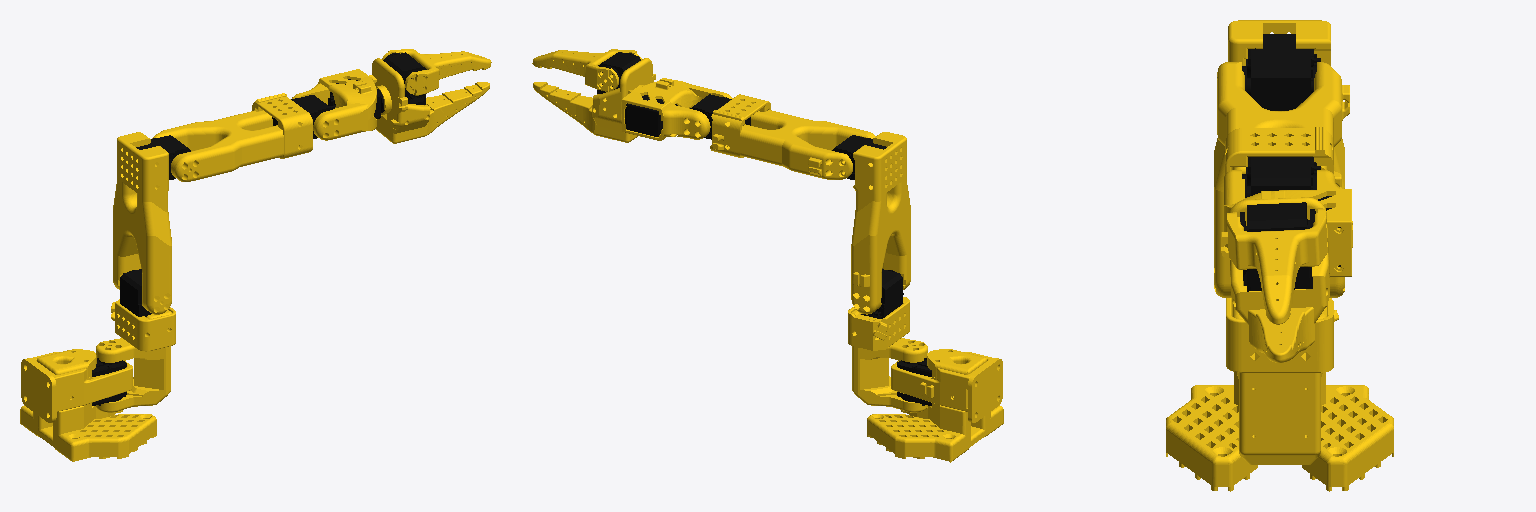
URDF robot description (so101_follower):
<?xml version="1.0" encoding="utf-8"?>
<!-- SO101 Follower Arm - based on so101_new_calib.urdf -->
<robot name="so101_follower">

  <!-- Materials -->
  <material name="3d_printed">
    <color rgba="1.0 0.82 0.12 1.0"/>
  </material>
  <material name="sts3215">
    <color rgba="0.1 0.1 0.1 1.0"/>
  </material>

  <!-- Link base -->
  <link name="base_link">
    <inertial>
      <origin xyz="0.0137179 -5.19711e-05 0.0334843" rpy="0 0 0"/>
      <mass value="0.147"/>
      <inertia ixx="0.000114686" ixy="-4.59787e-07" ixz="4.97151e-06" iyy="0.000136117" iyz="9.75275e-08" izz="0.000130364"/>
    </inertial>
    <!-- Part base_motor_holder_so101_v1 -->
    <visual>
      <origin xyz="-0.00636471 -9.94414e-05 -0.0024" rpy="1.5708 -1.67685e-15 1.5708"/>
      <geometry>
        <mesh filename="package://so101_description/meshes/base_motor_holder_so101_v1.stl"/>
      </geometry>
      <material name="3d_printed"/>
    </visual>
    <collision>
      <origin xyz="-0.00636471 -9.94414e-05 -0.0024" rpy="1.5708 -1.67685e-15 1.5708"/>
      <geometry>
        <mesh filename="package://so101_description/meshes/base_motor_holder_so101_v1.stl"/>
      </geometry>
    </collision>
    <!-- Part base_so101_v2 -->
    <visual>
      <origin xyz="-0.00636471 -8.97657e-09 -0.0024" rpy="1.5708 -2.78073e-29 1.5708"/>
      <geometry>
        <mesh filename="package://so101_description/meshes/base_so101_v2.stl"/>
      </geometry>
      <material name="3d_printed"/>
    </visual>
    <collision>
      <origin xyz="-0.00636471 -8.97657e-09 -0.0024" rpy="1.5708 -2.78073e-29 1.5708"/>
      <geometry>
        <mesh filename="package://so101_description/meshes/base_so101_v2.stl"/>
      </geometry>
    </collision>
    <!-- Part sts3215_03a_v1 -->
    <visual>
      <origin xyz="0.0263353 -8.97657e-09 0.0437" rpy="-8.21148e-16 7.84513e-18 1.249e-15"/>
      <geometry>
        <mesh filename="package://so101_description/meshes/sts3215_03a_v1.stl"/>
      </geometry>
      <material name="sts3215"/>
    </visual>
    <collision>
      <origin xyz="0.0263353 -8.97657e-09 0.0437" rpy="-8.21148e-16 7.84513e-18 1.249e-15"/>
      <geometry>
        <mesh filename="package://so101_description/meshes/sts3215_03a_v1.stl"/>
      </geometry>
    </collision>
    <!-- Part waveshare_mounting_plate_so101_v2 -->
    <visual>
      <origin xyz="-0.0309827 -0.000199441 0.0474" rpy="1.5708 -1.35493e-14 1.5708"/>
      <geometry>
        <mesh filename="package://so101_description/meshes/waveshare_mounting_plate_so101_v2.stl"/>
      </geometry>
      <material name="3d_printed"/>
    </visual>
    <collision>
      <origin xyz="-0.0309827 -0.000199441 0.0474" rpy="1.5708 -1.35493e-14 1.5708"/>
      <geometry>
        <mesh filename="package://so101_description/meshes/waveshare_mounting_plate_so101_v2.stl"/>
      </geometry>
    </collision>
  </link>

  <!-- Link shoulder -->
  <link name="shoulder_link">
    <inertial>
      <origin xyz="-0.0307604 -1.66727e-05 -0.0252713" rpy="0 0 0"/>
      <mass value="0.100006"/>
      <inertia ixx="8.3759e-05" ixy="7.55525e-08" ixz="-1.16342e-06" iyy="8.10403e-05" iyz="1.54663e-07" izz="2.39783e-05"/>
    </inertial>
    <!-- Part sts3215_03a_v1_2 -->
    <visual>
      <origin xyz="-0.0303992 0.000422241 -0.0417" rpy="1.5708 1.5708 0"/>
      <geometry>
        <mesh filename="package://so101_description/meshes/sts3215_03a_v1.stl"/>
      </geometry>
      <material name="sts3215"/>
    </visual>
    <collision>
      <origin xyz="-0.0303992 0.000422241 -0.0417" rpy="1.5708 1.5708 0"/>
      <geometry>
        <mesh filename="package://so101_description/meshes/sts3215_03a_v1.stl"/>
      </geometry>
    </collision>
    <!-- Part motor_holder_so101_base_v1 -->
    <visual>
      <origin xyz="-0.0675992 -0.000177759 0.0158499" rpy="1.5708 -1.5708 0"/>
      <geometry>
        <mesh filename="package://so101_description/meshes/motor_holder_so101_base_v1.stl"/>
      </geometry>
      <material name="3d_printed"/>
    </visual>
    <collision>
      <origin xyz="-0.0675992 -0.000177759 0.0158499" rpy="1.5708 -1.5708 0"/>
      <geometry>
        <mesh filename="package://so101_description/meshes/motor_holder_so101_base_v1.stl"/>
      </geometry>
    </collision>
    <!-- Part rotation_pitch_so101_v1 -->
    <visual>
      <origin xyz="0.0122008 2.22413e-05 0.0464" rpy="-1.5708 2.35221e-33 0"/>
      <geometry>
        <mesh filename="package://so101_description/meshes/rotation_pitch_so101_v1.stl"/>
      </geometry>
      <material name="3d_printed"/>
    </visual>
    <collision>
      <origin xyz="0.0122008 2.22413e-05 0.0464" rpy="-1.5708 2.35221e-33 0"/>
      <geometry>
        <mesh filename="package://so101_description/meshes/rotation_pitch_so101_v1.stl"/>
      </geometry>
    </collision>
  </link>

  <!-- Link upper_arm -->
  <link name="upper_arm_link">
    <inertial>
      <origin xyz="-0.0898471 -0.00838224 0.0184089" rpy="0 0 0"/>
      <mass value="0.103"/>
      <inertia ixx="4.08002e-05" ixy="-1.97819e-05" ixz="-4.03016e-08" iyy="0.000147318" iyz="8.97326e-09" izz="0.000142487"/>
    </inertial>
    <!-- Part sts3215_03a_v1_3 -->
    <visual>
      <origin xyz="-0.11257 -0.0155 0.0187" rpy="-3.14159 -5.27356e-16 -1.5708"/>
      <geometry>
        <mesh filename="package://so101_description/meshes/sts3215_03a_v1.stl"/>
      </geometry>
      <material name="sts3215"/>
    </visual>
    <collision>
      <origin xyz="-0.11257 -0.0155 0.0187" rpy="-3.14159 -5.27356e-16 -1.5708"/>
      <geometry>
        <mesh filename="package://so101_description/meshes/sts3215_03a_v1.stl"/>
      </geometry>
    </collision>
    <!-- Part upper_arm_so101_v1 -->
    <visual>
      <origin xyz="-0.065085 0.012 0.0182" rpy="3.14159 -0 -1.30911e-30"/>
      <geometry>
        <mesh filename="package://so101_description/meshes/upper_arm_so101_v1.stl"/>
      </geometry>
      <material name="3d_printed"/>
    </visual>
    <collision>
      <origin xyz="-0.065085 0.012 0.0182" rpy="3.14159 -0 -1.30911e-30"/>
      <geometry>
        <mesh filename="package://so101_description/meshes/upper_arm_so101_v1.stl"/>
      </geometry>
    </collision>
  </link>

  <!-- Link lower_arm -->
  <link name="lower_arm_link">
    <inertial>
      <origin xyz="-0.0980701 0.00324376 0.0182831" rpy="0 0 0"/>
      <mass value="0.104"/>
      <inertia ixx="2.87438e-05" ixy="7.41152e-06" ixz="1.26409e-06" iyy="0.000159844" iyz="-4.90188e-08" izz="0.00014529"/>
    </inertial>
    <!-- Part under_arm_so101_v1 -->
    <visual>
      <origin xyz="-0.0648499 -0.032 0.0182" rpy="3.14159 -0 6.67202e-31"/>
      <geometry>
        <mesh filename="package://so101_description/meshes/under_arm_so101_v1.stl"/>
      </geometry>
      <material name="3d_printed"/>
    </visual>
    <collision>
      <origin xyz="-0.0648499 -0.032 0.0182" rpy="3.14159 -0 6.67202e-31"/>
      <geometry>
        <mesh filename="package://so101_description/meshes/under_arm_so101_v1.stl"/>
      </geometry>
    </collision>
    <!-- Part motor_holder_so101_wrist_v1 -->
    <visual>
      <origin xyz="-0.0648499 -0.032 0.018" rpy="-3.14159 -2.55351e-15 -1.83387e-30"/>
      <geometry>
        <mesh filename="package://so101_description/meshes/motor_holder_so101_wrist_v1.stl"/>
      </geometry>
      <material name="3d_printed"/>
    </visual>
    <collision>
      <origin xyz="-0.0648499 -0.032 0.018" rpy="-3.14159 -2.55351e-15 -1.83387e-30"/>
      <geometry>
        <mesh filename="package://so101_description/meshes/motor_holder_so101_wrist_v1.stl"/>
      </geometry>
    </collision>
    <!-- Part sts3215_03a_v1_4 -->
    <visual>
      <origin xyz="-0.1224 0.0052 0.0187" rpy="-3.14159 -7.88861e-31 -3.14159"/>
      <geometry>
        <mesh filename="package://so101_description/meshes/sts3215_03a_v1.stl"/>
      </geometry>
      <material name="sts3215"/>
    </visual>
    <collision>
      <origin xyz="-0.1224 0.0052 0.0187" rpy="-3.14159 -7.88861e-31 -3.14159"/>
      <geometry>
        <mesh filename="package://so101_description/meshes/sts3215_03a_v1.stl"/>
      </geometry>
    </collision>
  </link>

  <!-- Link wrist -->
  <link name="wrist_link">
    <inertial>
      <origin xyz="-0.000103312 -0.0386143 0.0281156" rpy="0 0 0"/>
      <mass value="0.079"/>
      <inertia ixx="3.68263e-05" ixy="1.7893e-08" ixz="-5.28128e-08" iyy="2.5391e-05" iyz="3.6412e-06" izz="2.1e-05"/>
    </inertial>
    <!-- Part sts3215_03a_no_horn_v1 -->
    <visual>
      <origin xyz="8.32667e-17 -0.0424 0.0306" rpy="1.5708 1.5708 0"/>
      <geometry>
        <mesh filename="package://so101_description/meshes/sts3215_03a_no_horn_v1.stl"/>
      </geometry>
      <material name="sts3215"/>
    </visual>
    <collision>
      <origin xyz="8.32667e-17 -0.0424 0.0306" rpy="1.5708 1.5708 0"/>
      <geometry>
        <mesh filename="package://so101_description/meshes/sts3215_03a_no_horn_v1.stl"/>
      </geometry>
    </collision>
    <!-- Part wrist_roll_pitch_so101_v2 -->
    <visual>
      <origin xyz="0 -0.028 0.0181" rpy="-1.5708 -1.5708 0"/>
      <geometry>
        <mesh filename="package://so101_description/meshes/wrist_roll_pitch_so101_v2.stl"/>
      </geometry>
      <material name="3d_printed"/>
    </visual>
    <collision>
      <origin xyz="0 -0.028 0.0181" rpy="-1.5708 -1.5708 0"/>
      <geometry>
        <mesh filename="package://so101_description/meshes/wrist_roll_pitch_so101_v2.stl"/>
      </geometry>
    </collision>
  </link>

  <!-- Link gripper -->
  <link name="gripper_link">
    <inertial>
      <origin xyz="0.000213627 0.000245138 -0.025187" rpy="0 0 0"/>
      <mass value="0.087"/>
      <inertia ixx="2.75087e-05" ixy="-3.35241e-07" ixz="-5.7352e-06" iyy="4.33657e-05" iyz="-5.17847e-08" izz="3.45059e-05"/>
    </inertial>
    <!-- Part sts3215_03a_v1_5 -->
    <visual>
      <origin xyz="0.0077 0.0001 -0.0234" rpy="-1.5708 -5.19179e-17 -1.66533e-16"/>
      <geometry>
        <mesh filename="package://so101_description/meshes/sts3215_03a_v1.stl"/>
      </geometry>
      <material name="sts3215"/>
    </visual>
    <collision>
      <origin xyz="0.0077 0.0001 -0.0234" rpy="-1.5708 -5.19179e-17 -1.66533e-16"/>
      <geometry>
        <mesh filename="package://so101_description/meshes/sts3215_03a_v1.stl"/>
      </geometry>
    </collision>
    <!-- Part wrist_roll_follower_so101_v1 -->
    <visual>
      <origin xyz="8.32667e-17 -0.000218214 0.000949706" rpy="-3.14159 -5.55112e-17 0"/>
      <geometry>
        <mesh filename="package://so101_description/meshes/wrist_roll_follower_so101_v1.stl"/>
      </geometry>
      <material name="3d_printed"/>
    </visual>
    <collision>
      <origin xyz="8.32667e-17 -0.000218214 0.000949706" rpy="-3.14159 -5.55112e-17 0"/>
      <geometry>
        <mesh filename="package://so101_description/meshes/wrist_roll_follower_so101_v1.stl"/>
      </geometry>
    </collision>
  </link>

  <!-- Gripper frame (dummy link + fixed joint) -->
  <link name="gripper_frame_link">
    <origin xyz="0 0 0" rpy="0 -0 0"/>
    <inertial>
      <origin xyz="0 0 0" rpy="0 0 0"/>
      <mass value="1e-9"/>
      <inertia ixx="0" ixy="0" ixz="0" iyy="0" iyz="0" izz="0"/>
    </inertial>
  </link>

  <joint name="gripper_frame_joint" type="fixed">
    <origin xyz="-0.0079 -0.000218121 -0.0981274" rpy="0 3.14159 0"/>
    <parent link="gripper_link"/>
    <child link="gripper_frame_link"/>
    <axis xyz="0 0 0"/>
  </joint>

  <!-- Link moving_jaw_so101_v1 -->
  <link name="moving_jaw_so101_v1_link">
    <inertial>
      <origin xyz="-0.00157495 -0.0300244 0.0192755" rpy="0 0 0"/>
      <mass value="0.012"/>
      <inertia ixx="6.61427e-06" ixy="-3.19807e-07" ixz="-5.90717e-09" iyy="1.89032e-06" iyz="-1.09945e-07" izz="5.28738e-06"/>
    </inertial>
    <!-- Part moving_jaw_so101_v1 -->
    <visual>
      <origin xyz="-5.55112e-17 -5.55112e-17 0.0189" rpy="9.53145e-17 6.93889e-18 1.24077e-24"/>
      <geometry>
        <mesh filename="package://so101_description/meshes/moving_jaw_so101_v1.stl"/>
      </geometry>
      <material name="3d_printed"/>
    </visual>
    <collision>
      <origin xyz="-5.55112e-17 -5.55112e-17 0.0189" rpy="9.53145e-17 6.93889e-18 1.24077e-24"/>
      <geometry>
        <mesh filename="package://so101_description/meshes/moving_jaw_so101_v1.stl"/>
      </geometry>
    </collision>
  </link>

  <!-- Joint from gripper to moving_jaw_so101_v1 -->
  <joint name="gripper" type="revolute">
    <origin xyz="0.0202 0.0188 -0.0234" rpy="1.5708 -5.24284e-08 -1.41553e-15"/>
    <parent link="gripper_link"/>
    <child link="moving_jaw_so101_v1_link"/>
    <axis xyz="0 0 1"/>
    <limit effort="10" velocity="10" lower="-0.174533" upper="1.74533"/>
  </joint>

  <transmission name="gripper_trans">
    <type>transmission_interface/SimpleTransmission</type>
    <joint name="gripper">
      <hardwareInterface>hardware_interface/PositionJointInterface</hardwareInterface>
    </joint>
    <actuator name="motor6">
      <hardwareInterface>hardware_interface/PositionJointInterface</hardwareInterface>
      <mechanicalReduction>1</mechanicalReduction>
    </actuator>
  </transmission>

  <!-- Joint from wrist to gripper -->
  <joint name="wrist_roll" type="revolute">
    <origin xyz="5.55112e-17 -0.0611 0.0181" rpy="1.5708 0.0486795 3.14159"/>
    <parent link="wrist_link"/>
    <child link="gripper_link"/>
    <axis xyz="0 0 1"/>
    <limit effort="10" velocity="10" lower="-2.74385" upper="2.84121"/>
  </joint>

  <transmission name="wrist_roll_trans">
    <type>transmission_interface/SimpleTransmission</type>
    <joint name="wrist_roll">
      <hardwareInterface>hardware_interface/PositionJointInterface</hardwareInterface>
    </joint>
    <actuator name="motor5">
      <hardwareInterface>hardware_interface/PositionJointInterface</hardwareInterface>
      <mechanicalReduction>1</mechanicalReduction>
    </actuator>
  </transmission>

  <!-- Joint from lower_arm to wrist -->
  <joint name="wrist_flex" type="revolute">
    <origin xyz="-0.1349 0.0052 3.62355e-17" rpy="4.02456e-15 8.67362e-16 -1.5708"/>
    <parent link="lower_arm_link"/>
    <child link="wrist_link"/>
    <axis xyz="0 0 1"/>
    <limit effort="10" velocity="10" lower="-1.65806" upper="1.65806"/>
  </joint>

  <transmission name="wrist_flex_trans">
    <type>transmission_interface/SimpleTransmission</type>
    <joint name="wrist_flex">
      <hardwareInterface>hardware_interface/PositionJointInterface</hardwareInterface>
    </joint>
    <actuator name="motor4">
      <hardwareInterface>hardware_interface/PositionJointInterface</hardwareInterface>
      <mechanicalReduction>1</mechanicalReduction>
    </actuator>
  </transmission>

  <!-- Joint from upper_arm to lower_arm -->
  <!-- Note: 5-degree calibration offset applied to joint limits -->
  <joint name="elbow_flex" type="revolute">
    <origin xyz="-0.11257 -0.028 1.73763e-16" rpy="-3.63608e-16 8.74301e-16 1.5708"/>
    <parent link="upper_arm_link"/>
    <child link="lower_arm_link"/>
    <axis xyz="0 0 1"/>
    <limit effort="10" velocity="10" lower="-1.69" upper="1.69"/>
  </joint>

  <transmission name="elbow_flex_trans">
    <type>transmission_interface/SimpleTransmission</type>
    <joint name="elbow_flex">
      <hardwareInterface>hardware_interface/PositionJointInterface</hardwareInterface>
    </joint>
    <actuator name="motor3">
      <hardwareInterface>hardware_interface/PositionJointInterface</hardwareInterface>
      <mechanicalReduction>1</mechanicalReduction>
    </actuator>
  </transmission>

  <!-- Joint from shoulder to upper_arm -->
  <joint name="shoulder_lift" type="revolute">
    <origin xyz="-0.0303992 -0.0182778 -0.0542" rpy="-1.5708 -1.5708 0"/>
    <parent link="shoulder_link"/>
    <child link="upper_arm_link"/>
    <axis xyz="0 0 1"/>
    <limit effort="10" velocity="10" lower="-1.74533" upper="1.74533"/>
  </joint>

  <transmission name="shoulder_lift_trans">
    <type>transmission_interface/SimpleTransmission</type>
    <joint name="shoulder_lift">
      <hardwareInterface>hardware_interface/PositionJointInterface</hardwareInterface>
    </joint>
    <actuator name="motor2">
      <hardwareInterface>hardware_interface/PositionJointInterface</hardwareInterface>
      <mechanicalReduction>1</mechanicalReduction>
    </actuator>
  </transmission>

  <!-- Joint from base to shoulder -->
  <joint name="shoulder_pan" type="revolute">
    <origin xyz="0.0388353 -8.97657e-09 0.0624" rpy="3.14159 4.18253e-17 -3.14159"/>
    <parent link="base_link"/>
    <child link="shoulder_link"/>
    <axis xyz="0 0 1"/>
    <limit effort="10" velocity="10" lower="-1.91986" upper="1.91986"/>
  </joint>

  <transmission name="shoulder_pan_trans">
    <type>transmission_interface/SimpleTransmission</type>
    <joint name="shoulder_pan">
      <hardwareInterface>hardware_interface/PositionJointInterface</hardwareInterface>
    </joint>
    <actuator name="motor1">
      <hardwareInterface>hardware_interface/PositionJointInterface</hardwareInterface>
      <mechanicalReduction>1</mechanicalReduction>
    </actuator>
  </transmission> 

</robot>

--- Facts derived from the render (not from the file) ---
3 views of the same robot in one strip: view 1: azimuth 30°, elevation 25°; view 2: azimuth 150°, elevation 25°; view 3: azimuth 270°, elevation 25° (orthographic).
Model so101_follower with 8 links and 7 joints (6 revolute, 1 fixed), rooted at base_link, posed every joint at zero.
Visible links, largest first — view 1: base_link, upper_arm_link, lower_arm_link, shoulder_link, gripper_link, wrist_link, moving_jaw_so101_v1_link; view 2: base_link, upper_arm_link, lower_arm_link, shoulder_link, wrist_link, gripper_link, moving_jaw_so101_v1_link; view 3: base_link, lower_arm_link, shoulder_link, upper_arm_link, gripper_link, moving_jaw_so101_v1_link, wrist_link.
Boxes of the visible links, x1,y1,x2,y2 form: base_link: (20, 349, 156, 461); upper_arm_link: (113, 132, 190, 314); lower_arm_link: (152, 93, 332, 181); shoulder_link: (96, 269, 175, 412); gripper_link: (372, 52, 489, 143); wrist_link: (292, 69, 384, 140); moving_jaw_so101_v1_link: (382, 49, 491, 95); base_link: (867, 349, 1003, 462); upper_arm_link: (832, 132, 910, 314); lower_arm_link: (690, 94, 875, 179); shoulder_link: (848, 269, 927, 412); wrist_link: (622, 78, 732, 140); gripper_link: (533, 52, 655, 142); moving_jaw_so101_v1_link: (532, 49, 641, 91); base_link: (1166, 372, 1393, 491); lower_arm_link: (1217, 62, 1349, 197); shoulder_link: (1226, 298, 1338, 464); upper_arm_link: (1214, 20, 1352, 297); gripper_link: (1221, 197, 1329, 362); moving_jaw_so101_v1_link: (1227, 208, 1327, 324); wrist_link: (1224, 170, 1351, 276).
Bounding box of the posed robot: 0.4296 × 0.1109 × 0.2681 m (x, y, z).
Meshes: 13 distinct files referenced, 17 mesh visuals loaded (13 binary STL).